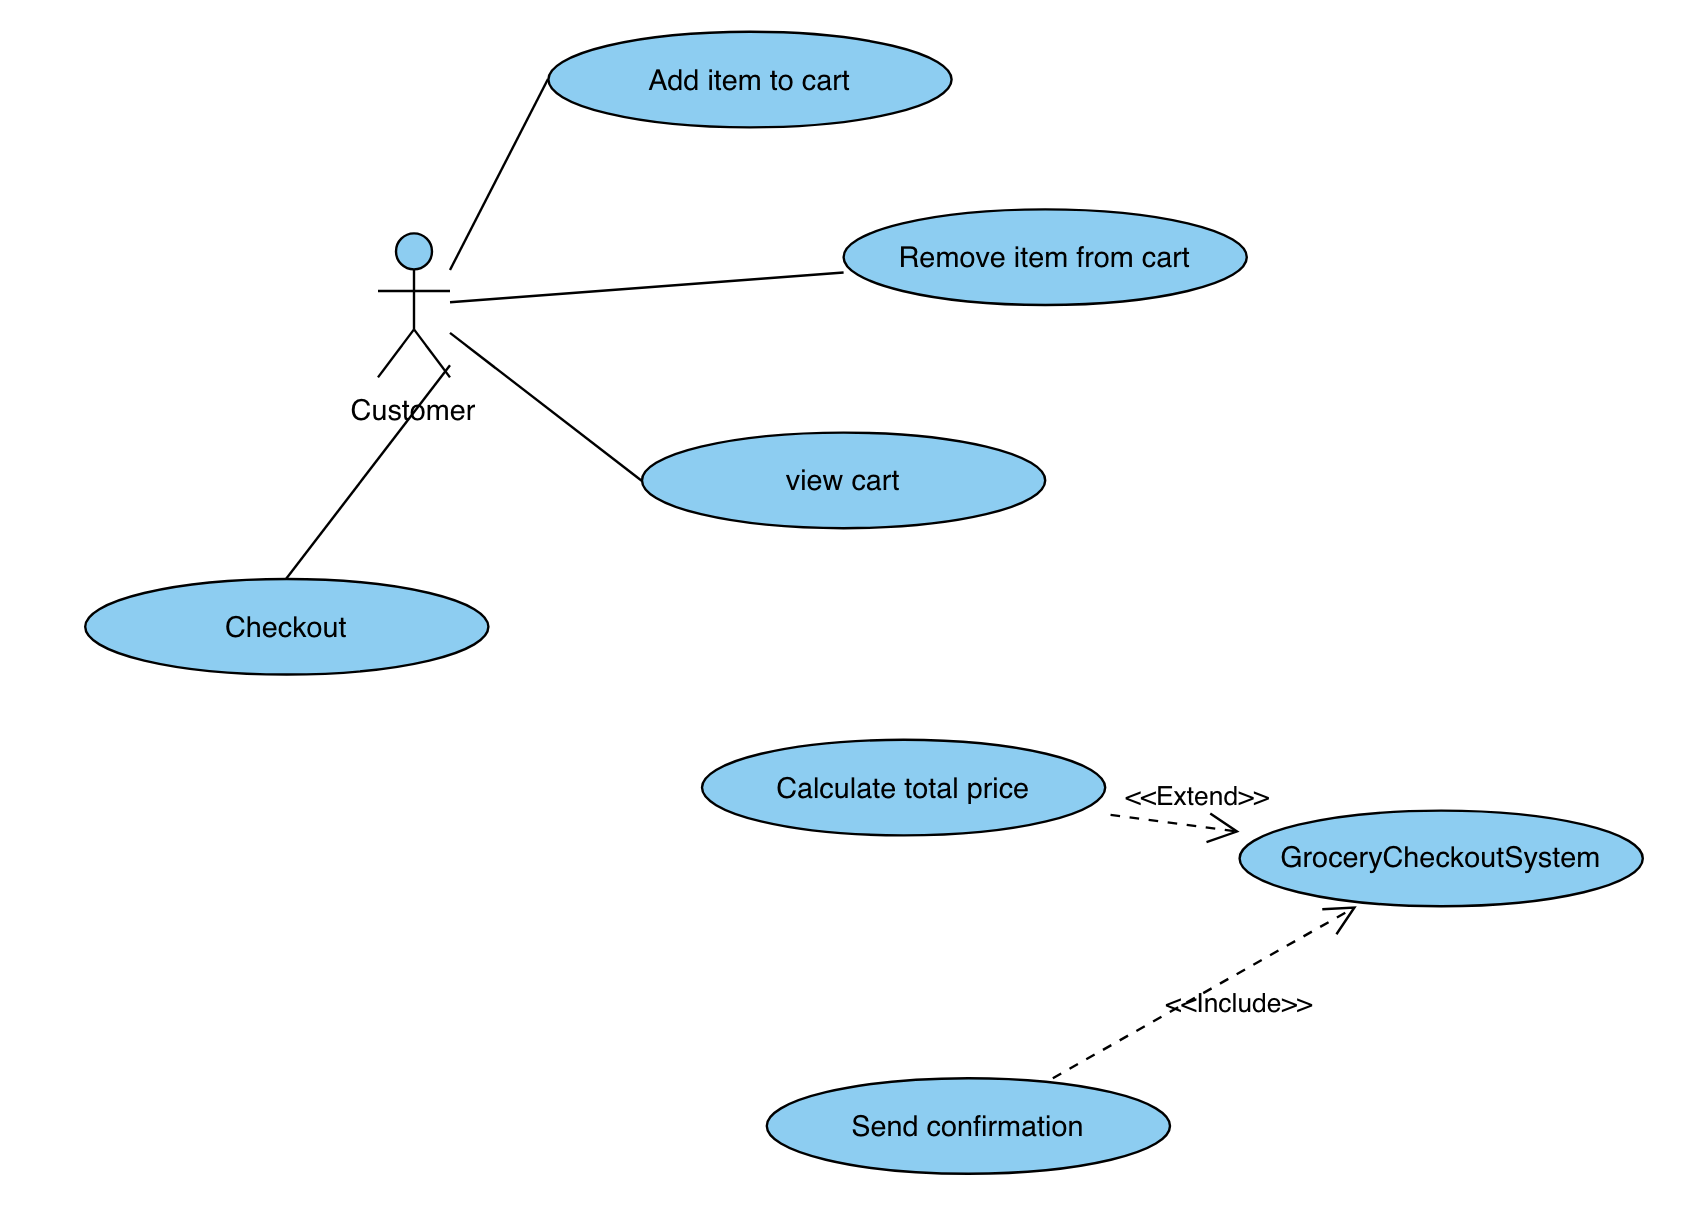actor: (365, 229, 453, 388)
association: (1051, 904, 1360, 1075), (285, 366, 451, 569), (447, 326, 640, 481), (451, 85, 544, 270), (449, 268, 844, 308), (1114, 807, 1241, 848)
text: (762, 768, 1045, 815), (895, 235, 1196, 277), (1276, 838, 1615, 875), (834, 1104, 1103, 1151), (645, 63, 875, 99), (770, 462, 929, 507), (217, 602, 362, 649), (1159, 988, 1323, 1026), (342, 394, 490, 435), (1125, 778, 1275, 816)
use_case: (1236, 803, 1646, 913), (81, 573, 493, 680), (544, 26, 955, 133), (839, 203, 1250, 310), (696, 735, 1107, 842), (636, 428, 1051, 534), (758, 1074, 1173, 1180)
